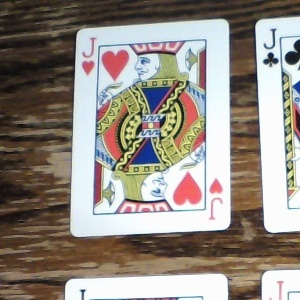card: (69, 18, 231, 237)
